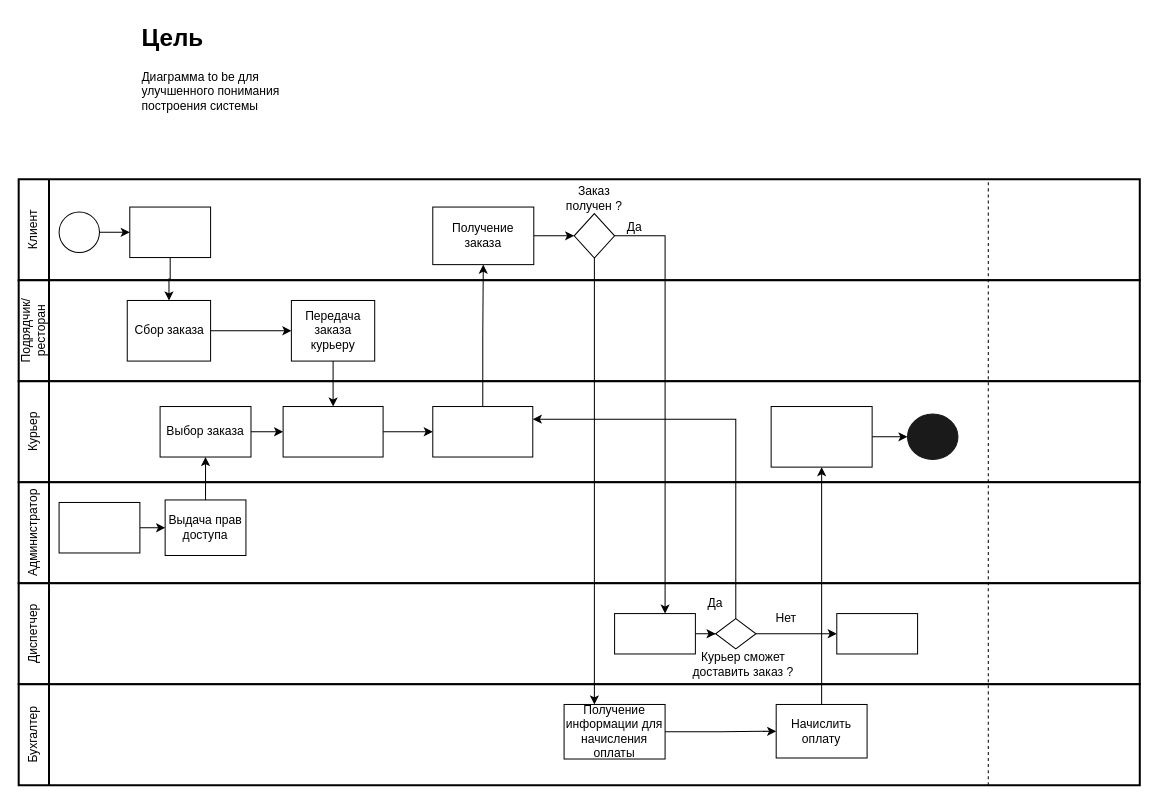
This 1157x804 diagram has some shape labels left out. Each missing label, with the centre of its shape:
Доставка заказа: point (482, 431)
Переназначить заказ: point (877, 633)
Получение оплаты: point (821, 436)
Прибытие на место: point (332, 431)
Регистрация курьера: point (99, 527)
Связаться с курьером: point (654, 633)
создание заказа: point (170, 232)
